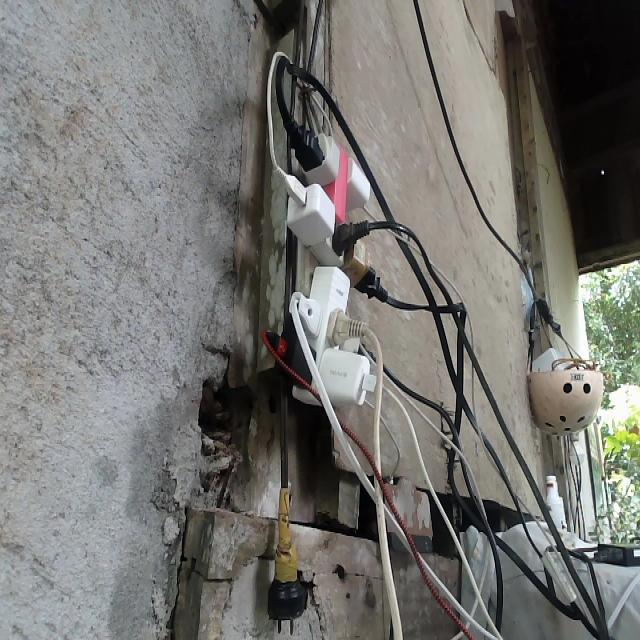-: (261, 109, 391, 435)
